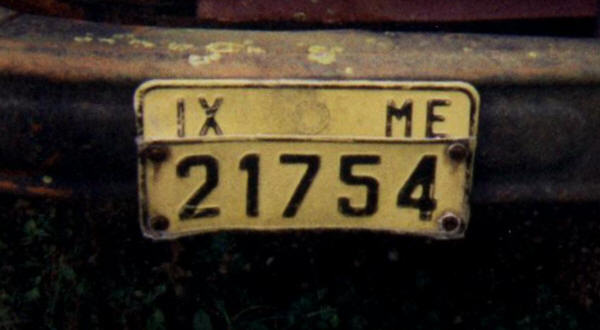license_plate: (133, 78, 481, 241)
